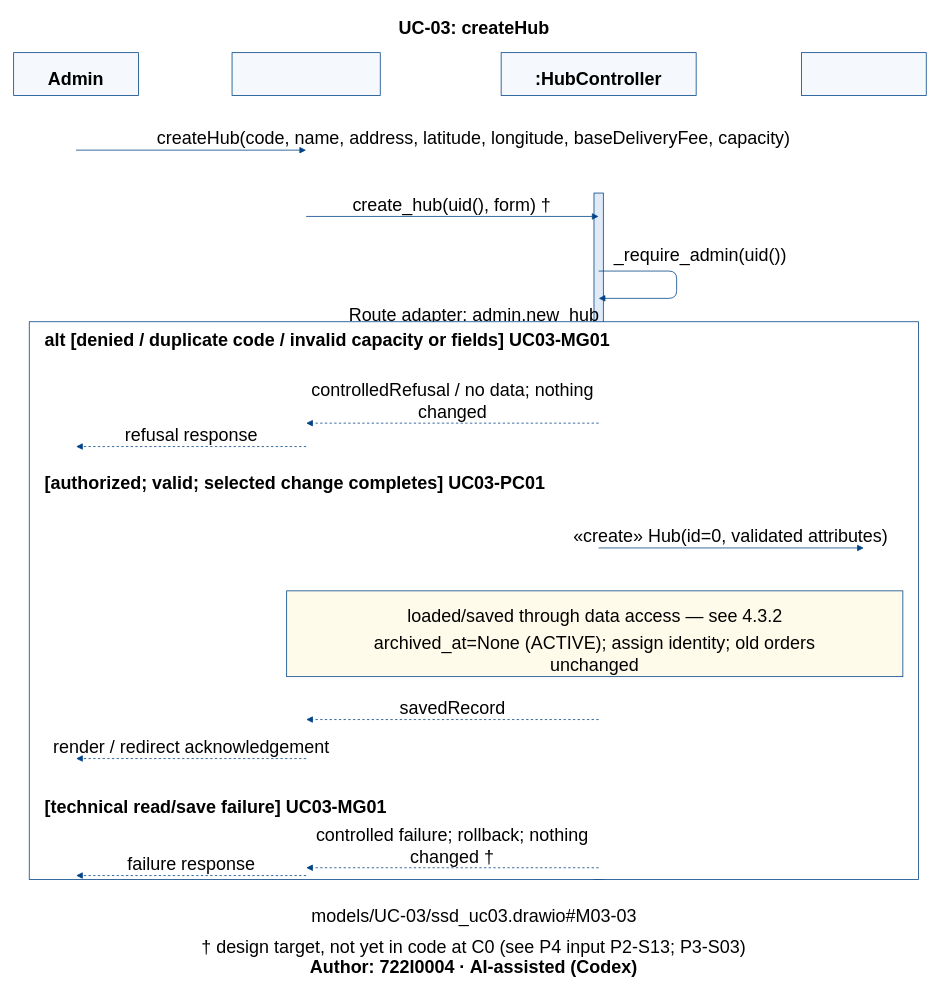
This 940x991 diagram has some shape labels left out. Here are the shapes that lost their labels. From the top down, the centre of each, then its label:
point (305, 74): «view» admin
point (863, 74): :Hub
